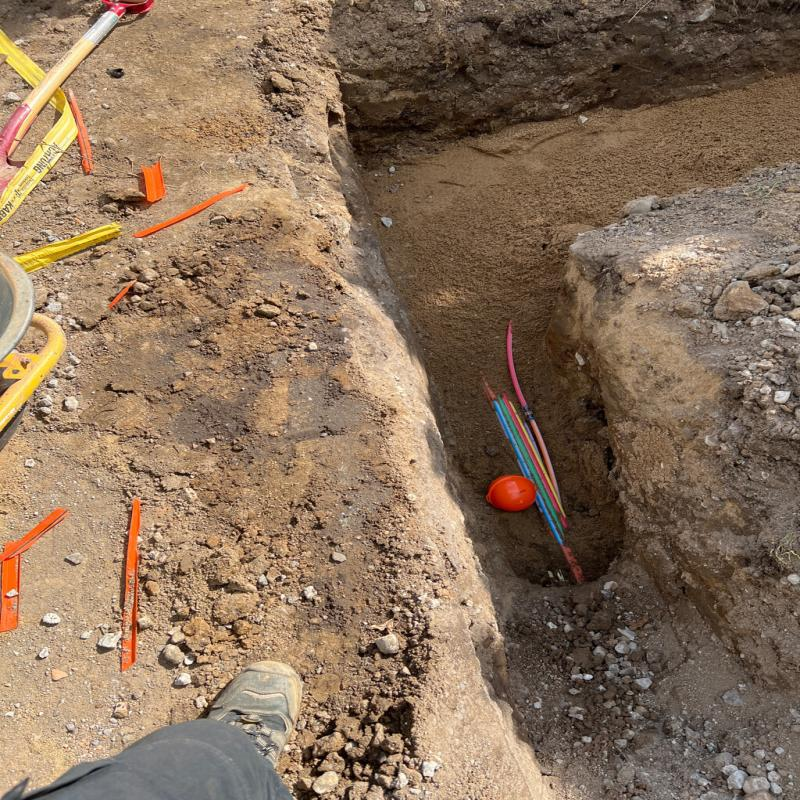Kugelmarker: (487, 475, 538, 510)
Orang-Speednetrohrchen: (481, 381, 587, 582)
